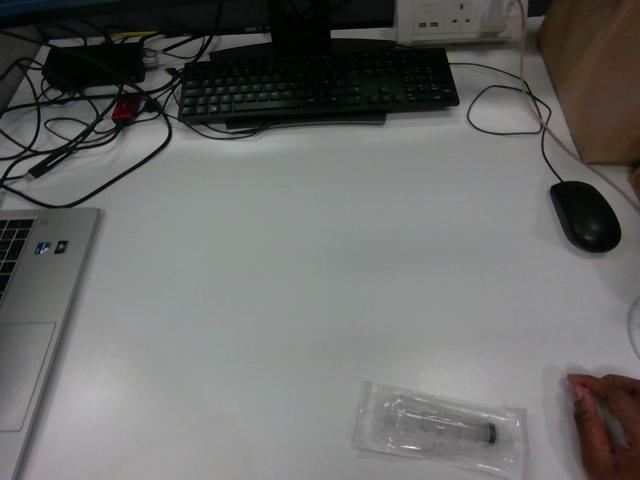syringe: (354, 382, 527, 479)
